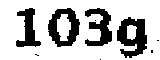0: (47, 3, 79, 49)
1: (14, 6, 42, 52)
3: (82, 5, 113, 52)
g: (116, 17, 155, 60)
